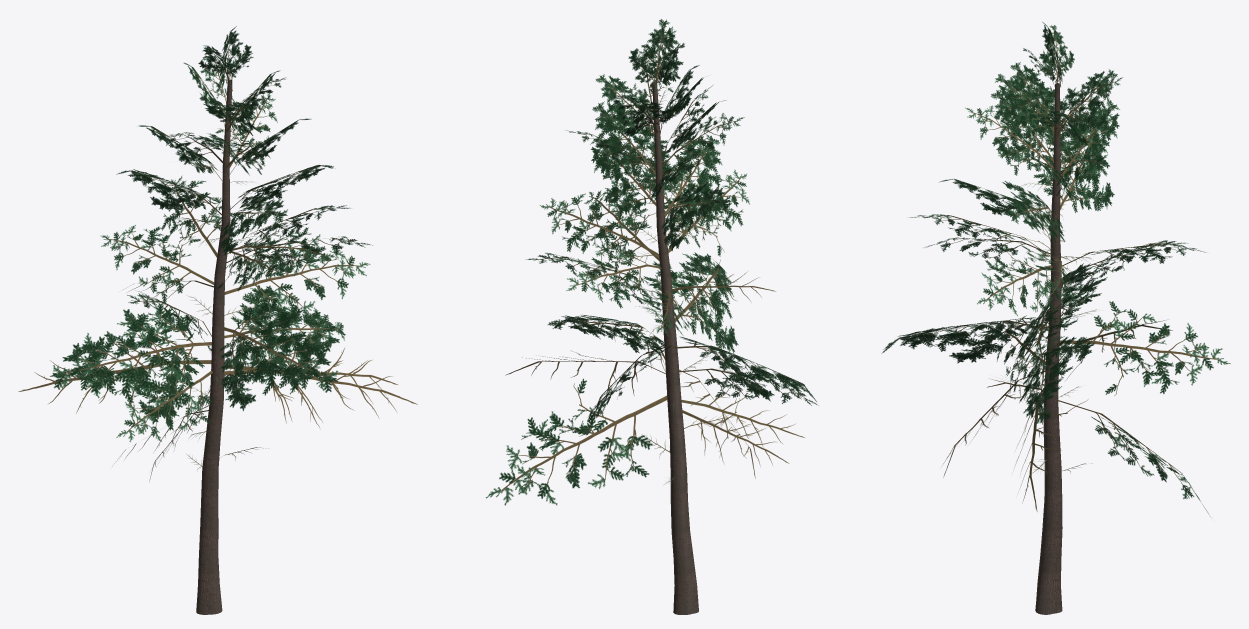
The picture shows the model from 3 angles, left to right: view 1: azimuth 30°, elevation 25°; view 2: azimuth 150°, elevation 25°; view 3: azimuth 270°, elevation 25°; orthographic projection. The views are drawn at different scales.
Visible parts, largest first — view 1: Pine_Tree_Lowpoly__03; view 2: Pine_Tree_Lowpoly__03; view 3: Pine_Tree_Lowpoly__03.
Boxes of the visible parts, <box> form: Pine_Tree_Lowpoly__03: <box>18,26,417,614</box>; Pine_Tree_Lowpoly__03: <box>486,19,818,614</box>; Pine_Tree_Lowpoly__03: <box>881,22,1230,614</box>.
Bounding box in the file's own units: 0.1721 × 0.2787 × 0.1521.
4 materials, 4 textured.
